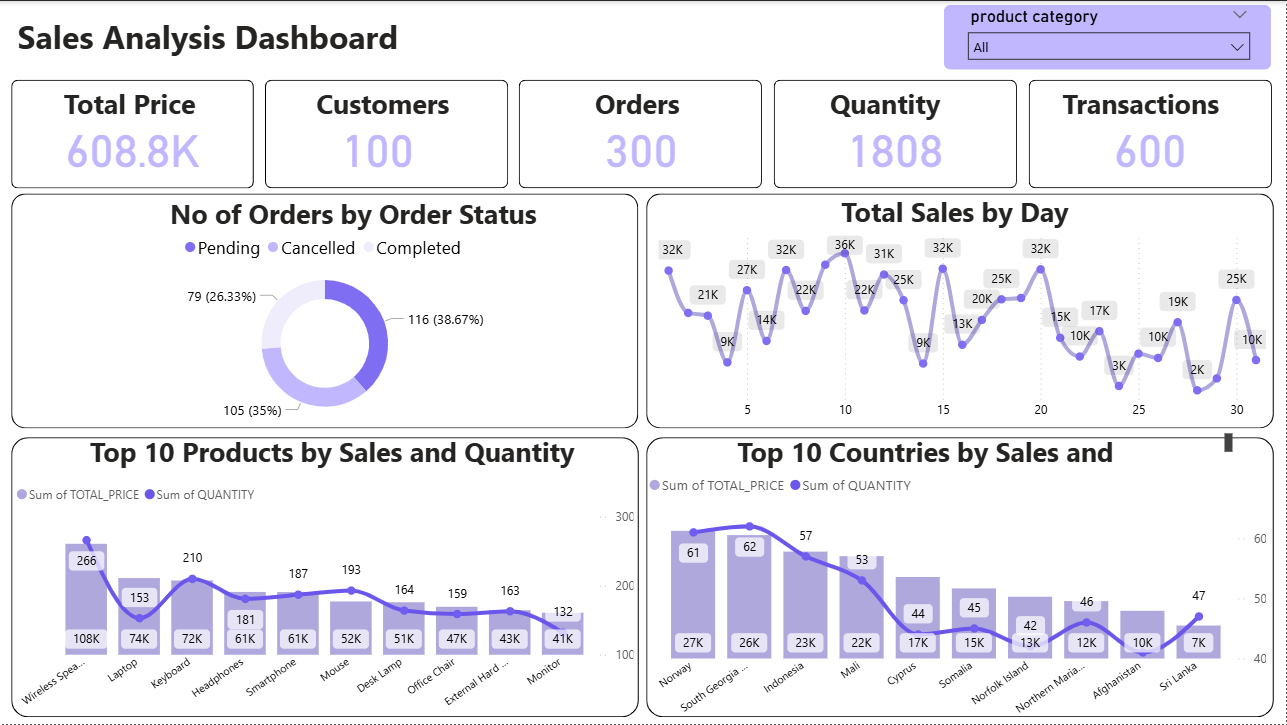

The dashboard page shown, as its layout file describes it:
{"tool":"powerbi","page":{"name":"Page 1","canvas":[1280,720],"ordinal":0},"visuals":[{"type":"shape","box":[939.2,3.7,325.9,64.7],"z":0},{"type":"shape","box":[643.1,434.1,624.5,278.6],"z":1000},{"type":"shape","box":[11.2,434.1,624.5,278.6],"z":2000},{"type":"shape","box":[643.1,191.6,624.5,233.9],"z":3000},{"type":"shape","box":[11.2,191.6,624,233.9],"z":4000},{"type":"shape","box":[11.2,78.4,241.3,108.2],"z":5000},{"type":"shape","box":[263.1,78.6,242,108],"z":6000},{"type":"shape","box":[1023.7,78.6,242,108],"z":7000},{"type":"shape","box":[770.2,78.6,242,108],"z":8000},{"type":"shape","box":[516.6,78.6,242,108],"z":9000},{"type":"donutChart","fields":{"Y":["CountNonNull(dim_orders.order_status)"],"Category":["dim_orders.order_status"]},"box":[11.2,222.7,624.5,202.8],"z":10000},{"type":"lineClusteredColumnComboChart","fields":{"Category":["dim_customers.country"],"Y":["Sum(fact_sales.TOTAL_PRICE)"],"Y2":["Sum(fact_sales.QUANTITY)"]},"box":[640.6,461.5,624.5,258.7],"z":11000},{"type":"lineClusteredColumnComboChart","fields":{"Y":["Sum(fact_sales.TOTAL_PRICE)"],"Category":["dim_products.product_name"],"Y2":["Sum(fact_sales.QUANTITY)"]},"box":[11.2,471.5,624.5,241.3],"z":12000},{"type":"card","fields":{"Values":["Sum(fact_sales.TOTAL_PRICE)"]},"box":[44.8,102,174.2,84.6],"z":13000},{"type":"card","fields":{"Values":["CountNonNull(dim_customers.customer_id)"]},"box":[288.6,102,174.2,85.8],"z":14000},{"type":"card","fields":{"Values":["CountNonNull(dim_orders.order_id)"]},"box":[551.1,102,174.2,84.6],"z":15000},{"type":"card","fields":{"Values":["Sum(fact_sales.QUANTITY)"]},"box":[803.6,102,174.2,84.6],"z":16000},{"type":"card","fields":{"Values":["CountNonNull(fact_sales.ITEM_ID)"]},"box":[1057.4,102,174.2,85.8],"z":17000},{"type":"lineChart","fields":{"Category":["fact_sales.ORDER_DATE.Variation.Date Hierarchy.Day"],"Y":["Sum(fact_sales.TOTAL_PRICE)"]},"box":[650.6,222.7,614.5,202.8],"z":18000},{"type":"textbox","box":[58.5,78.4,172.9,65.9],"z":19000},{"type":"textbox","box":[309.7,78.4,169.2,65.9],"z":20000},{"type":"textbox","box":[587.1,78.4,107,65.9],"z":21000},{"type":"textbox","box":[821,78.4,140.6,65.9],"z":22000},{"type":"textbox","box":[1052.4,78.4,182.9,65.9],"z":23000},{"type":"textbox","box":[164.2,187.8,399.3,46],"z":24000},{"type":"textbox","box":[832.2,186.6,246.3,46],"z":25000},{"type":"textbox","box":[729,425.4,502.6,46],"z":26000},{"type":"textbox","box":[84.6,425.4,502.6,46],"z":27000},{"type":"textbox","box":[12.4,8.7,551.1,59.7],"z":28000},{"type":"slicer","fields":{"Values":["dim_products.product_category"]},"box":[952.9,0,301,78.4],"z":29000}]}

Visuals, with their boxes in screenshot pixels (x1, y1, x2, y2), scaled from the page's 1280x720 canvas onto the 1287x725 screenshot:
shape: BBox(944, 4, 1272, 69)
shape: BBox(647, 437, 1275, 718)
shape: BBox(11, 437, 639, 718)
shape: BBox(647, 193, 1275, 428)
shape: BBox(11, 193, 639, 428)
shape: BBox(11, 79, 254, 188)
shape: BBox(265, 79, 508, 188)
shape: BBox(1029, 79, 1273, 188)
shape: BBox(774, 79, 1018, 188)
shape: BBox(519, 79, 763, 188)
donutChart - CountNonNull(dim_orders.order_status) x dim_orders.order_status: BBox(11, 224, 639, 428)
lineClusteredColumnComboChart - dim_customers.country x Sum(fact_sales.TOTAL_PRICE): BBox(644, 465, 1272, 724)
lineClusteredColumnComboChart - Sum(fact_sales.TOTAL_PRICE) x dim_products.product_name: BBox(11, 475, 639, 718)
card - Sum(fact_sales.TOTAL_PRICE): BBox(45, 103, 220, 188)
card - CountNonNull(dim_customers.customer_id): BBox(290, 103, 465, 189)
card - CountNonNull(dim_orders.order_id): BBox(554, 103, 729, 188)
card - Sum(fact_sales.QUANTITY): BBox(808, 103, 983, 188)
card - CountNonNull(fact_sales.ITEM_ID): BBox(1063, 103, 1238, 189)
lineChart - fact_sales.ORDER_DATE.Variation.Date Hierarchy.Day x Sum(fact_sales.TOTAL_PRICE): BBox(654, 224, 1272, 428)
textbox: BBox(59, 79, 233, 145)
textbox: BBox(311, 79, 482, 145)
textbox: BBox(590, 79, 698, 145)
textbox: BBox(825, 79, 967, 145)
textbox: BBox(1058, 79, 1242, 145)
textbox: BBox(165, 189, 567, 235)
textbox: BBox(837, 188, 1084, 234)
textbox: BBox(733, 428, 1238, 475)
textbox: BBox(85, 428, 590, 475)
textbox: BBox(12, 9, 567, 69)
slicer - dim_products.product_category: BBox(958, 0, 1261, 79)
